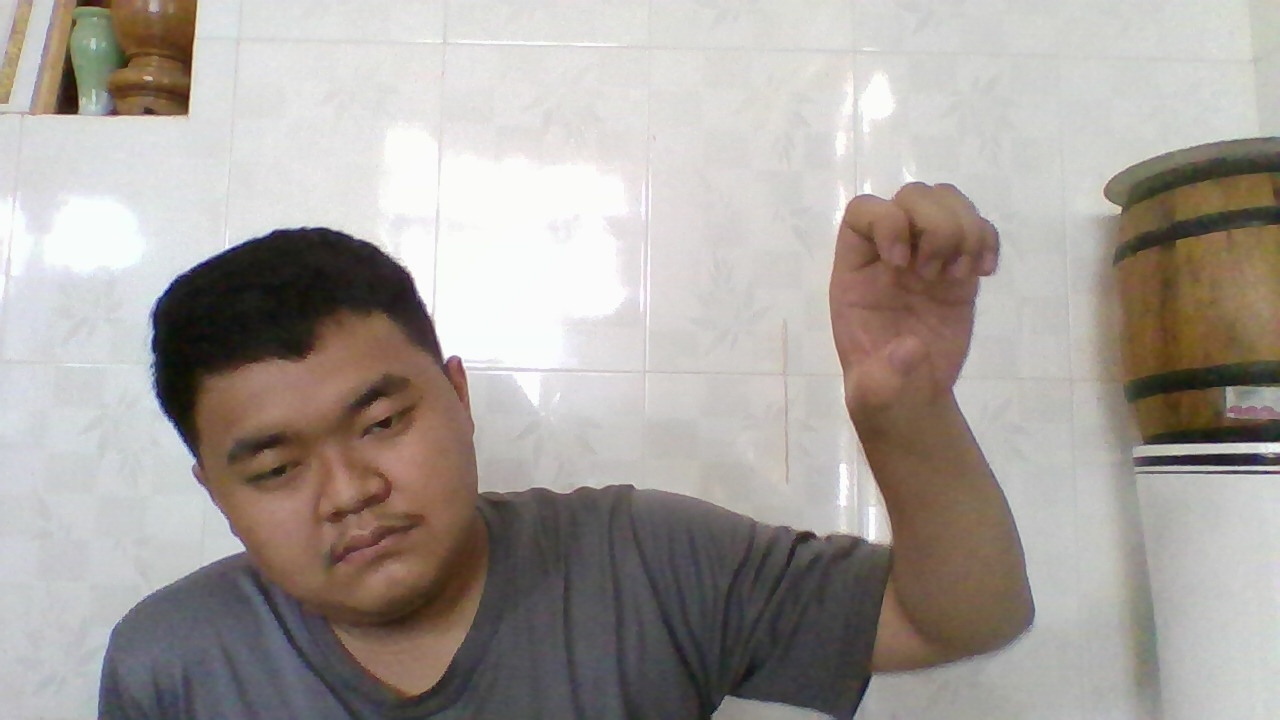E: (837, 175, 1006, 431)
